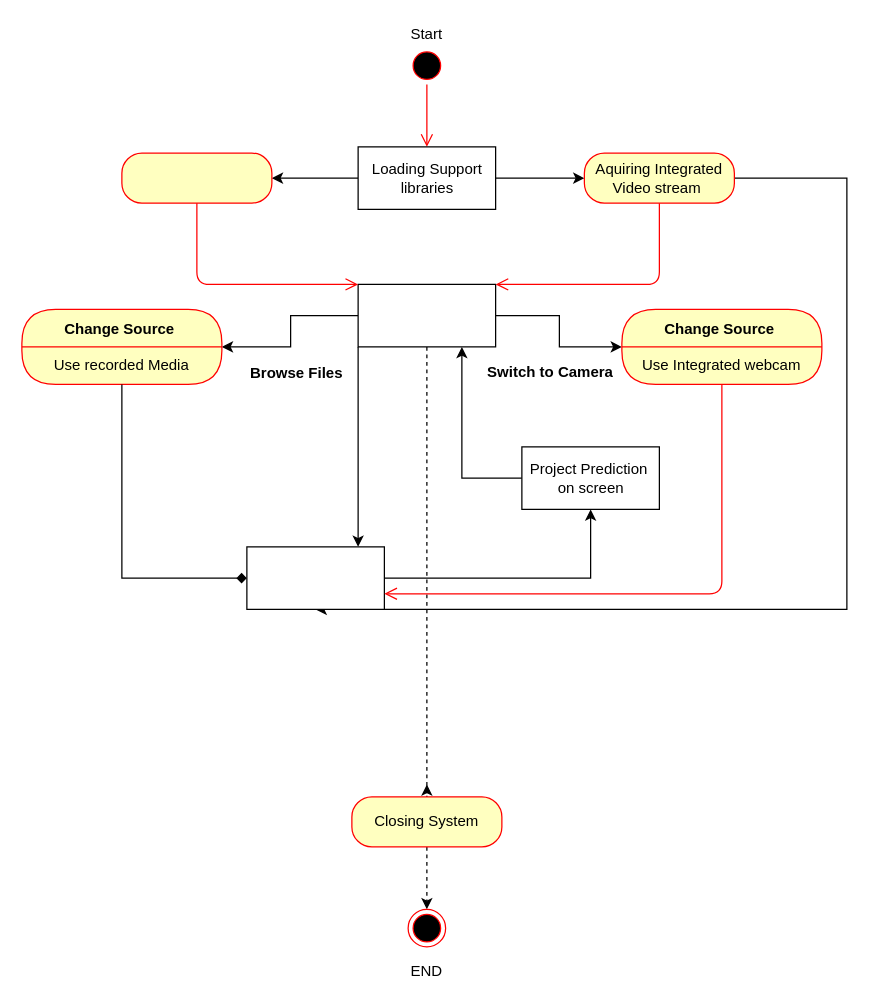
This 879x1005 diagram has some shape labels left out. Each missing label, with the box of its shape:
Loading Trained Model: (121, 152, 272, 203)
Predicting Subject Emotion: (246, 546, 384, 609)
«interface» Main User: (357, 283, 496, 347)
